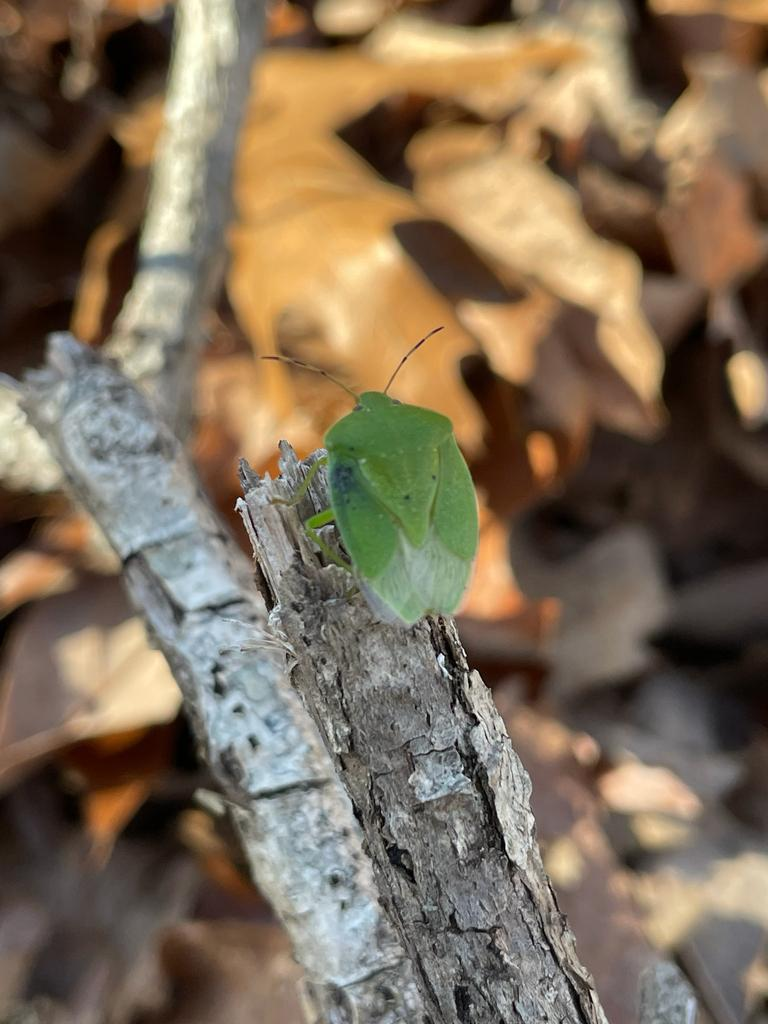stink_bugs: (211, 287, 564, 694)
